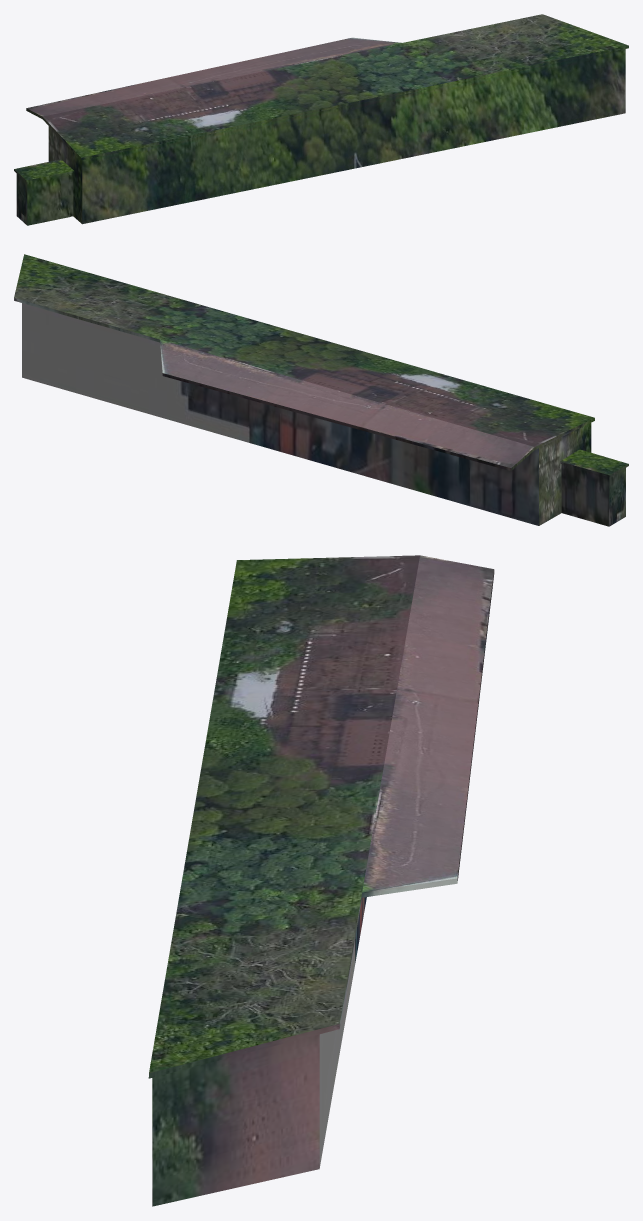
3 renders of one model, top to bottom at view 1: azimuth 30°, elevation 25°; view 2: azimuth 150°, elevation 25°; view 3: azimuth 270°, elevation 25°, orthographic. The views are drawn at different scales.
Parts seen in each view (by area): view 1: B292334039601062A0; view 2: B292334039601062A0; view 3: B292334039601062A0.
Boxes of the visible parts, box(x1,y1,x2,y2) form: B292334039601062A0: box(14, 14, 628, 225); B292334039601062A0: box(14, 254, 628, 526); B292334039601062A0: box(148, 555, 494, 1206).
Bounding box in the file's own units: 48.77 × 6.05 × 12.84.
Materials: 1 (1 with a texture image).
